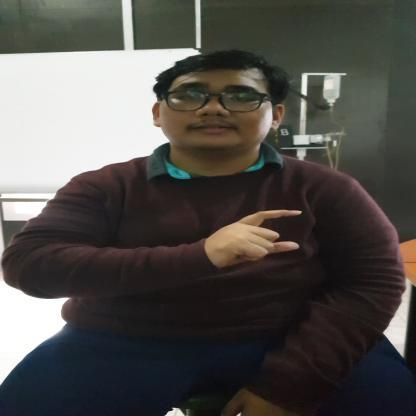C: (205, 209, 304, 266)
